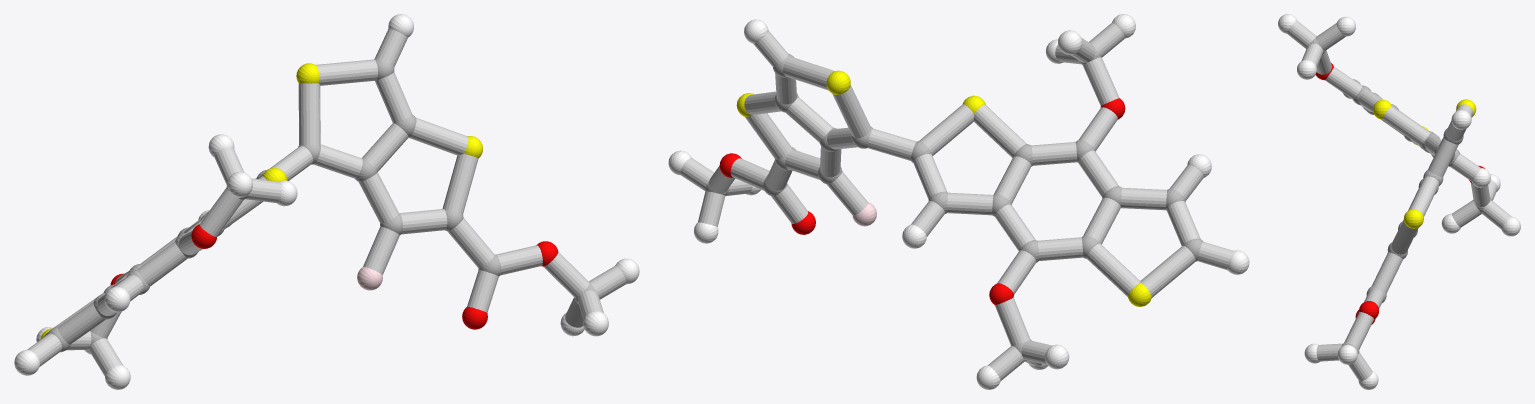
Rendered from color.glb.
3 views of the same model, side by side, from view 1: azimuth 30°, elevation 25°; view 2: azimuth 150°, elevation 25°; view 3: azimuth 270°, elevation 25° (orthographic). The views are drawn at different scales.
Parts seen in each view (by area): view 1: grp15205, grp8689, grp1, grp13395, grp7241; view 2: grp15205, grp8689, grp1, grp7241, grp13395; view 3: grp15205, grp8689, grp1, grp7241, grp13395.
Boxes of the visible parts, x1,y1,x2,y2 form: grp15205: (27, 28, 626, 375); grp8689: (14, 14, 639, 389); grp1: (47, 58, 596, 352); grp13395: (110, 224, 558, 329); grp7241: (40, 63, 482, 339); grp15205: (680, 22, 1233, 380); grp8689: (668, 14, 1249, 389); grp1: (705, 48, 1203, 361); grp7241: (736, 70, 1151, 306); grp13395: (719, 98, 1125, 304); grp15205: (1287, 21, 1511, 380); grp8689: (1278, 14, 1520, 389); grp1: (1310, 38, 1491, 354); grp7241: (1373, 99, 1476, 228); grp13395: (1315, 63, 1484, 324).
Size of the model in its own units: 16.4 by 7.76 by 7.25.
